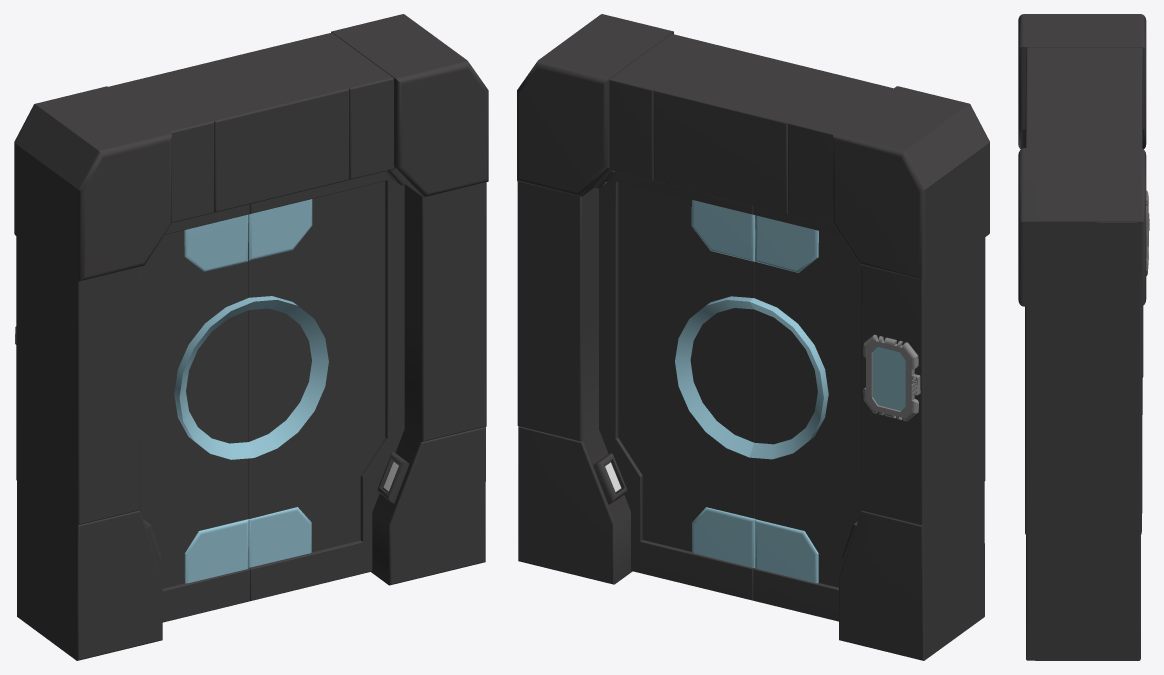
File: capsule gate.fbx
3 renders of one model, left to right at view 1: azimuth 30°, elevation 25°; view 2: azimuth 150°, elevation 25°; view 3: azimuth 270°, elevation 25°, orthographic. The views are drawn at different scales.
Parts seen in each view (by area): view 1: body, pCube10, pCube17, pCube22, pCube18, pCube15 (×2), pPipe2, pPipe1, pCube16, pCube14, pCube13; view 2: body, pCube10, pCube17, pCube22, pCube18, pCube15 (×2), pCube6, pPipe2, pCube14, pCube16, pPipe1, pCube12; view 3: body, pCube18, pCube22, pCube6.
Part boxes in pixels (left/top/right/bottom): body: left=16, top=32, right=486, bottom=660; pCube10: left=248, top=171, right=404, bottom=601; pCube17: left=140, top=204, right=249, bottom=622; pCube22: left=14, top=86, right=171, bottom=281; pCube18: left=331, top=14, right=488, bottom=197; pCube15 (×2): left=184, top=507, right=311, bottom=583; pPipe2: left=249, top=296, right=328, bottom=457; pPipe1: left=174, top=298, right=253, bottom=459; pCube16: left=184, top=214, right=248, bottom=271; pCube14: left=248, top=199, right=312, bottom=260; pCube13: left=377, top=452, right=409, bottom=503; body: left=517, top=34, right=985, bottom=660; pCube10: left=599, top=172, right=754, bottom=600; pCube17: left=753, top=205, right=861, bottom=621; pCube22: left=833, top=86, right=989, bottom=280; pCube18: left=517, top=14, right=673, bottom=196; pCube15 (×2): left=692, top=507, right=818, bottom=583; pCube6: left=863, top=334, right=920, bottom=421; pPipe2: left=675, top=296, right=753, bottom=457; pCube14: left=691, top=200, right=755, bottom=261; pCube16: left=755, top=215, right=818, bottom=272; pPipe1: left=749, top=298, right=828, bottom=459; pCube12: left=593, top=453, right=627, bottom=504; body: left=1025, top=47, right=1143, bottom=660; pCube18: left=1018, top=148, right=1146, bottom=306; pCube22: left=1018, top=14, right=1146, bottom=149; pCube6: left=1146, top=190, right=1149, bottom=275.
Size of the model in its own units: 962 by 1139 by 288.
